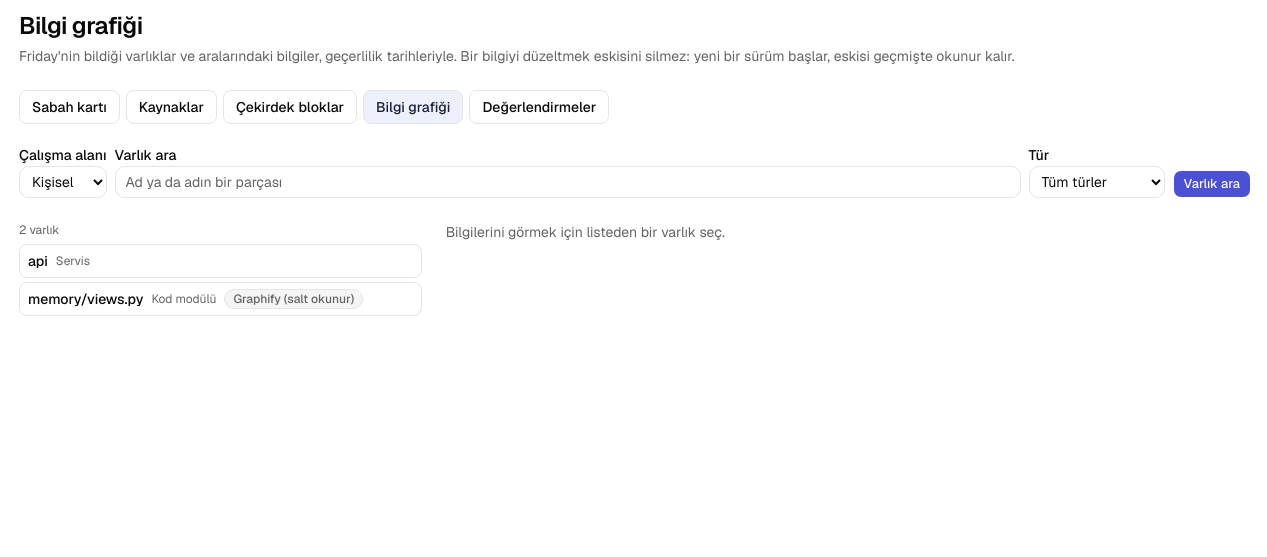
Scenario: GraphView › phone width: the selected entity replaces the list, nothing forces overflow
Step 1. Click the button "api Servis" → {"x": 73, "y": 261}, box [19,244,422,278]
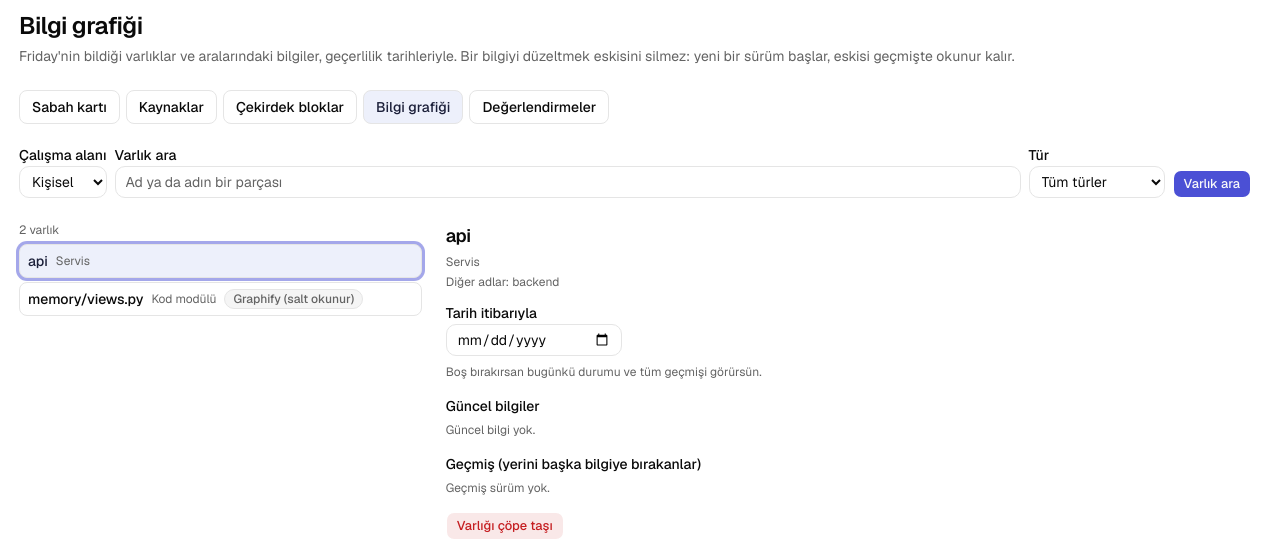
Expected: the element with test id "entity-timeline" is shown, [446,224,762,540]
